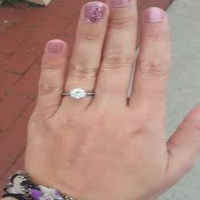ring: (66, 2, 110, 104)
